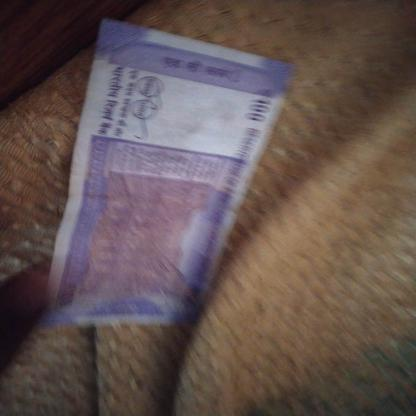New100Back: (63, 49, 273, 320)
